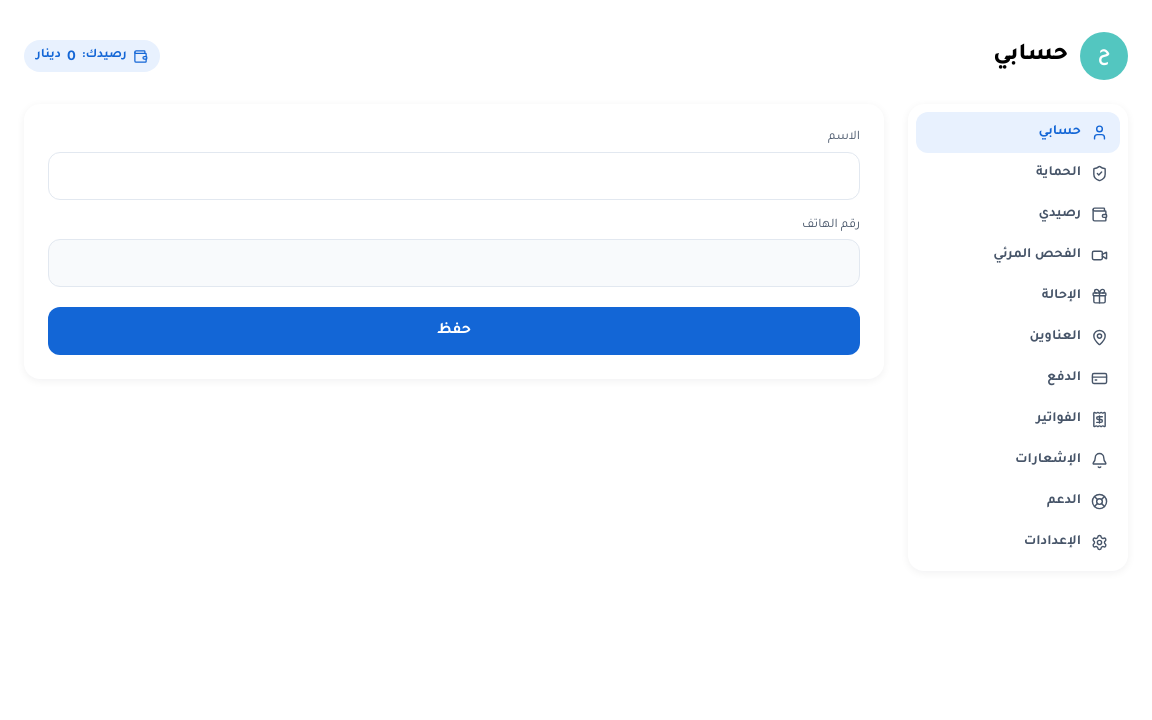
Scenario: Account › receipts tab › shows an empty state when there are no completed bookings
Click the tab "الفواتير" at (1018,420), box top-left (916, 399), bottom-right (1120, 440)
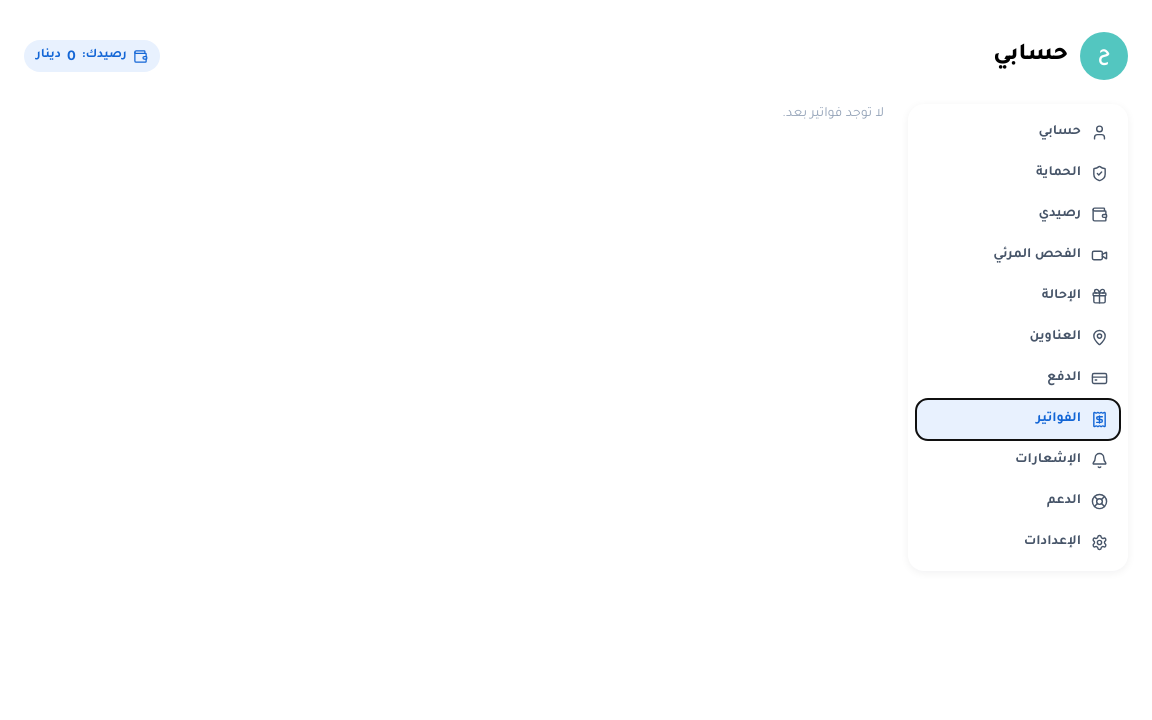
Expected: the text "لا توجد فواتير بعد." is shown, top-left (782, 107), bottom-right (884, 121)
